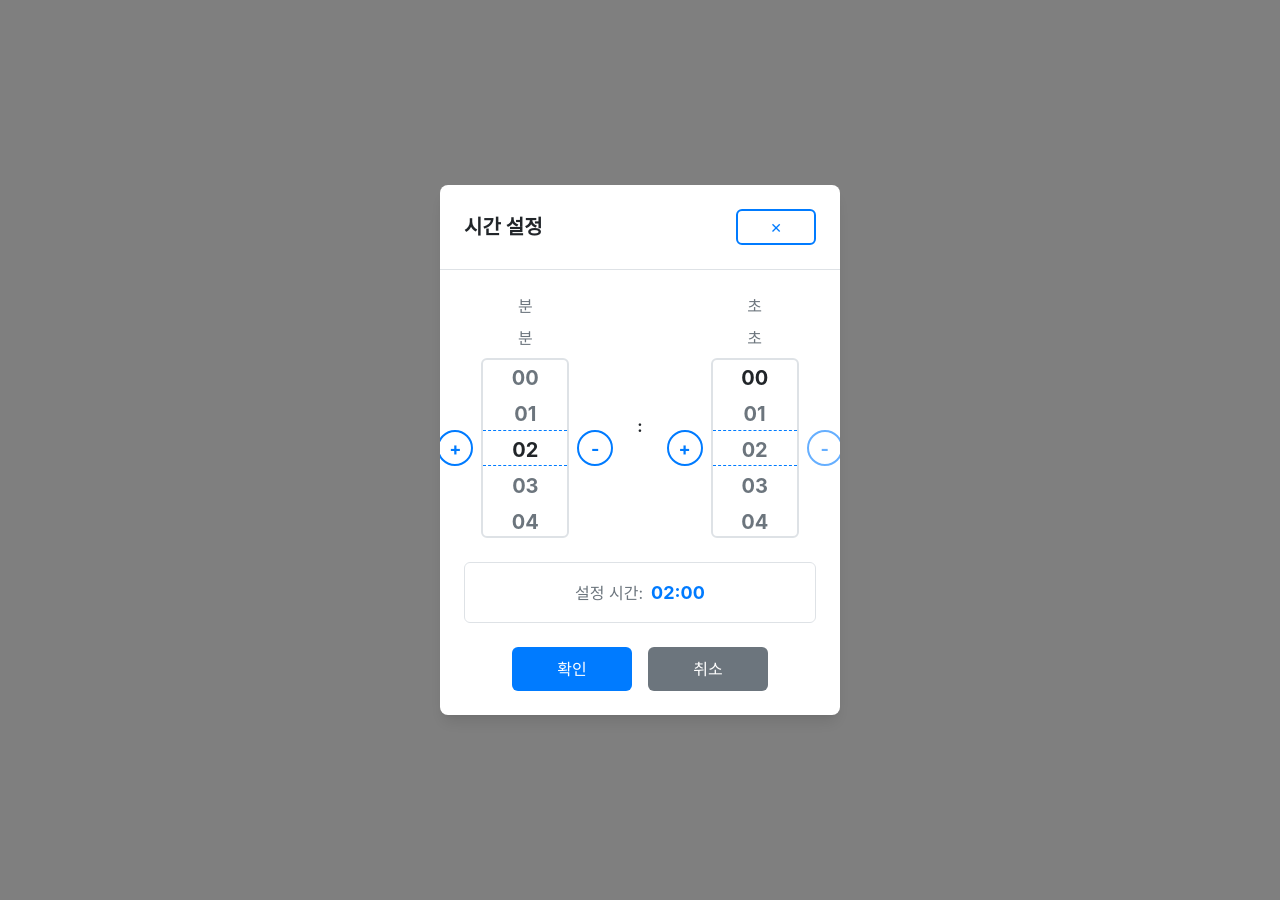
Test: TimeSettingModal › updates preview time when inputs change
This screenshot has width=1280, height=900.
Click the button named "분 증가": click(455, 448) x1=437 y1=430 x2=473 y2=466
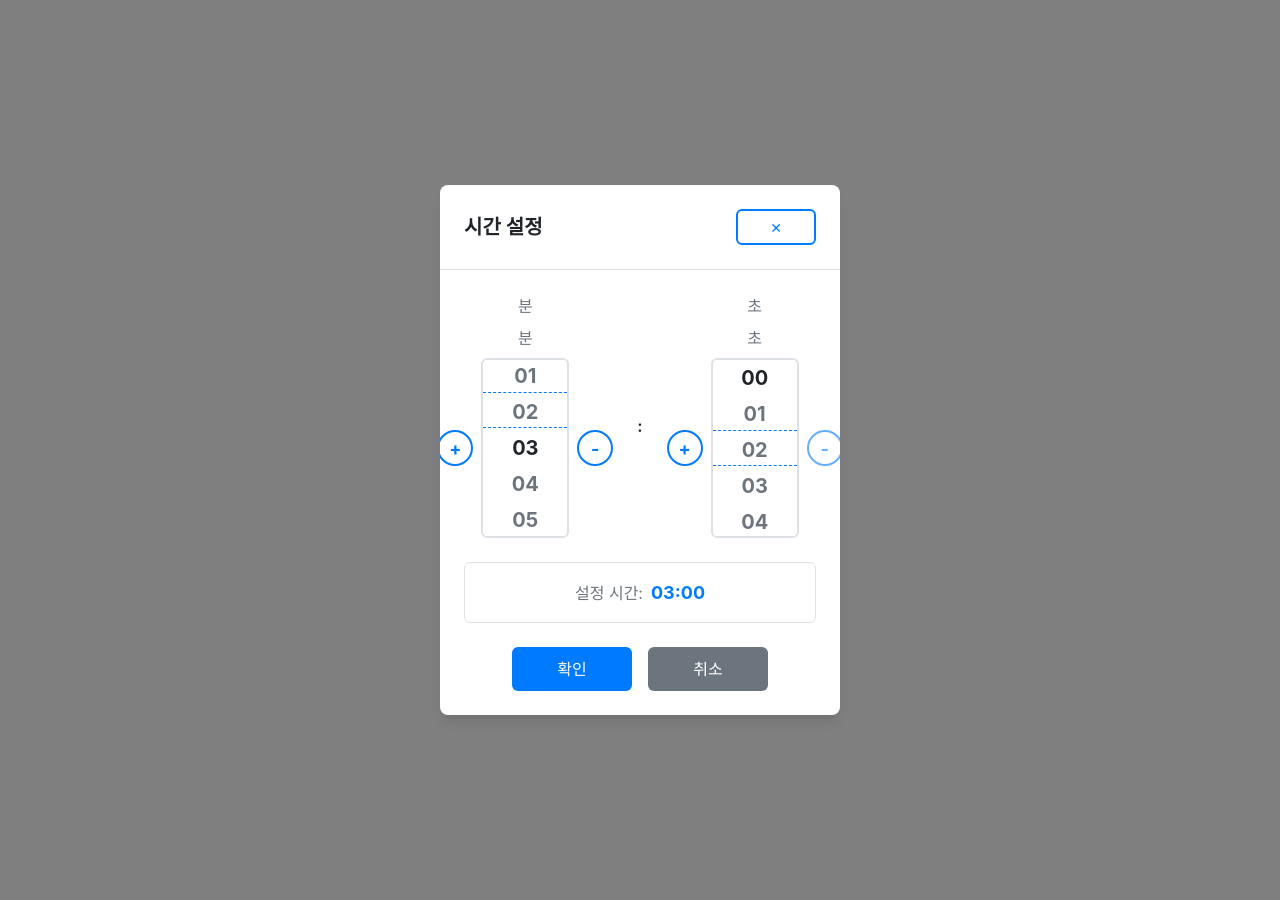
Expected: the text "03:00" is shown, x1=651 y1=579 x2=705 y2=606
